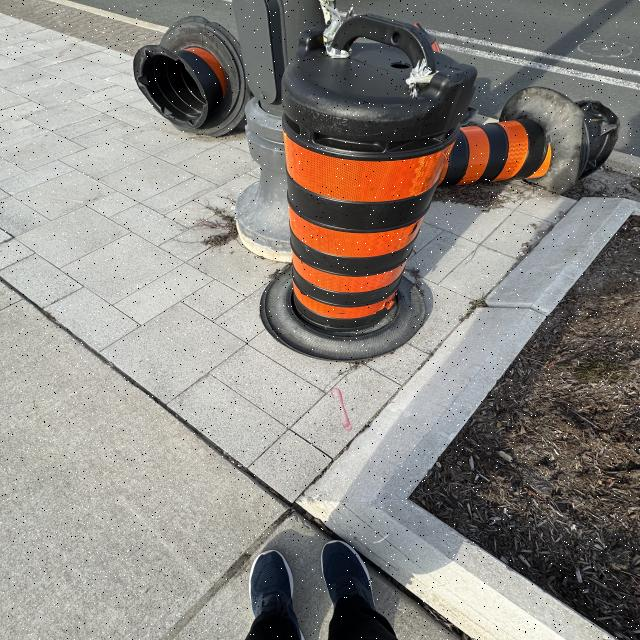Teraffic Barrel: (262, 15, 476, 359), (440, 87, 619, 193), (133, 16, 250, 136)
